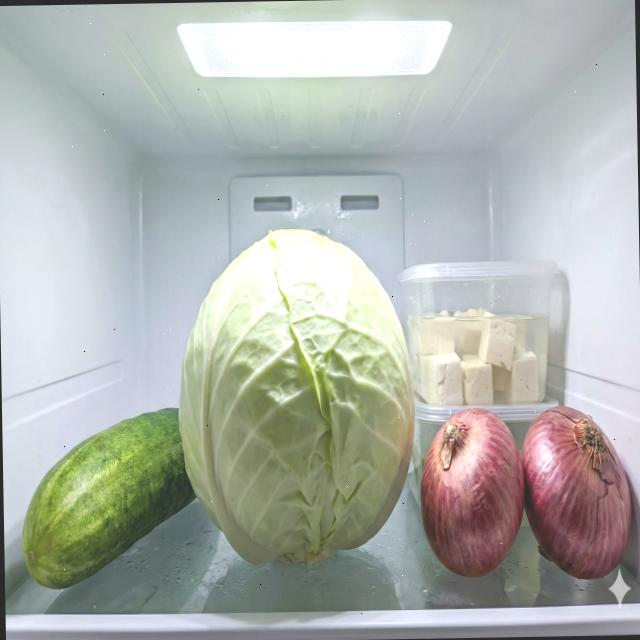cabbage: (175, 224, 418, 568)
cucumber: (18, 402, 199, 591)
onion: (417, 403, 634, 582)
tofu: (406, 306, 540, 408)
